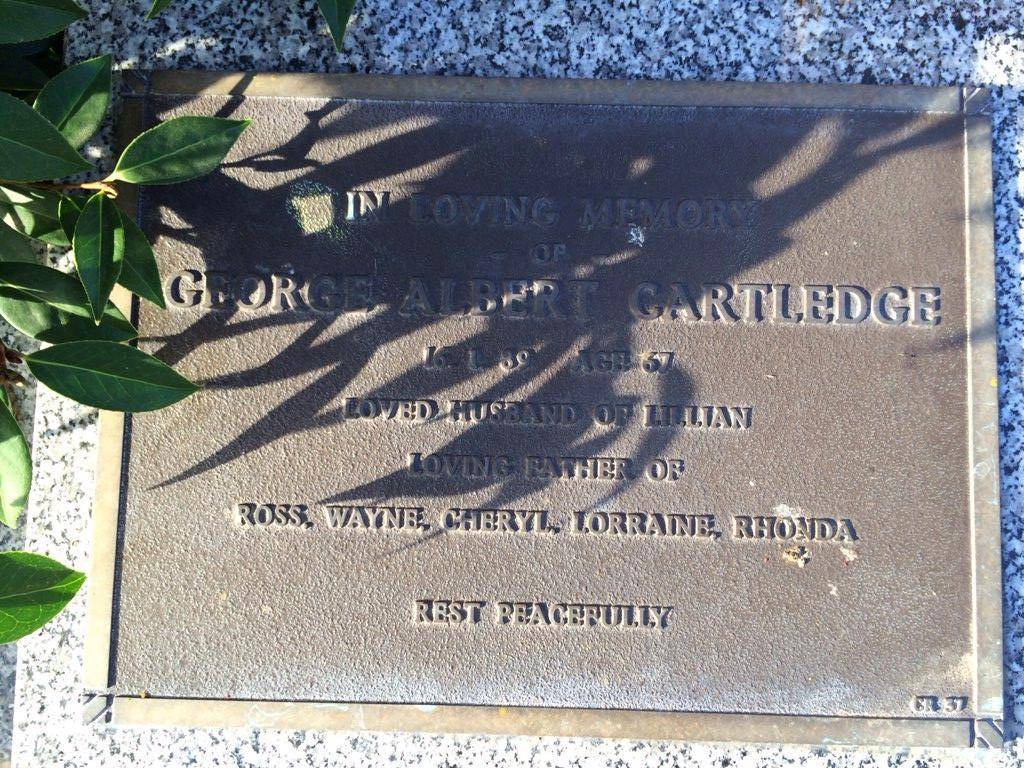plaque: (106, 69, 1004, 747)
